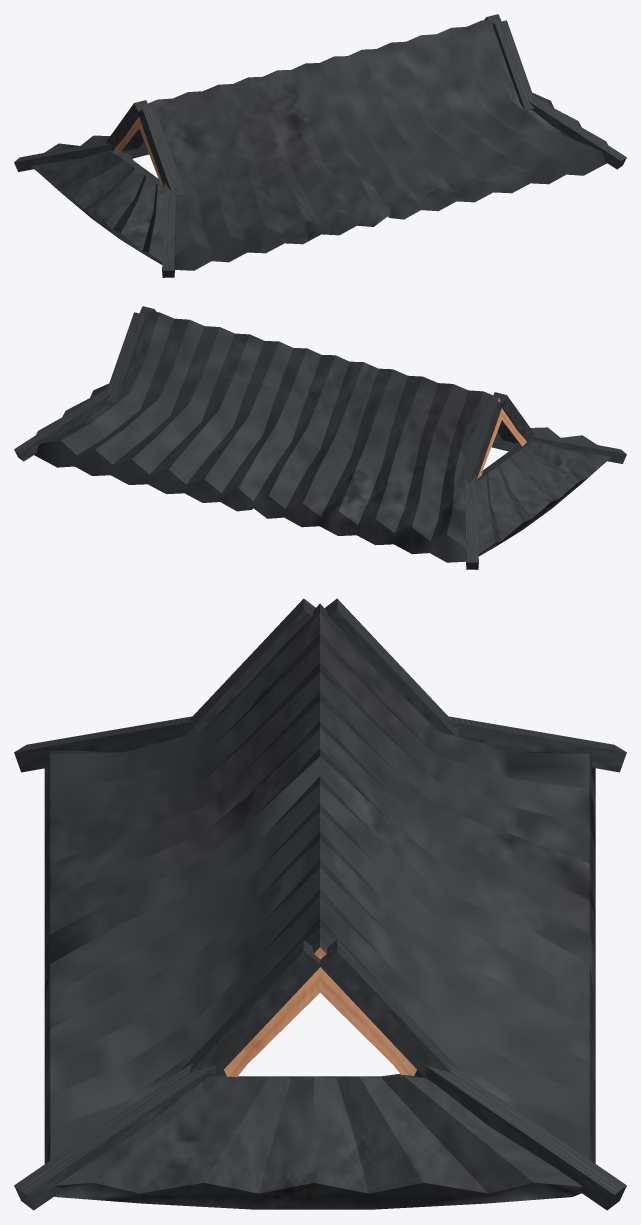
File: Kiwa.fbx
3 views of the same model, one above another, from view 1: azimuth 30°, elevation 25°; view 2: azimuth 150°, elevation 25°; view 3: azimuth 270°, elevation 25° (orthographic). The views are drawn at different scales.
Visible parts, largest first — view 1: stl01_low, stl02_low, Side, Side.001; view 2: stl01_low, stl02_low, Side, Side.001; view 3: stl01_low, stl02_low.001, Side.001, Side.
Part boxes in pixels (left/top/right/bottom): stl01_low: left=44, top=19, right=606, bottom=270; stl02_low: left=31, top=150, right=176, bottom=264; Side: left=14, top=100, right=184, bottom=277; Side.001: left=484, top=14, right=626, bottom=169; stl01_low: left=34, top=311, right=596, bottom=562; stl02_low: left=476, top=440, right=611, bottom=556; Side: left=456, top=392, right=626, bottom=569; Side.001: left=14, top=306, right=156, bottom=461; stl01_low: left=44, top=603, right=595, bottom=1163; stl02_low.001: left=54, top=1074, right=582, bottom=1209; Side.001: left=14, top=940, right=626, bottom=1210; Side: left=14, top=598, right=626, bottom=772.
Bounding box in the file's own units: 928 × 221 × 534.
Materials: 1 (1 with a texture image).
